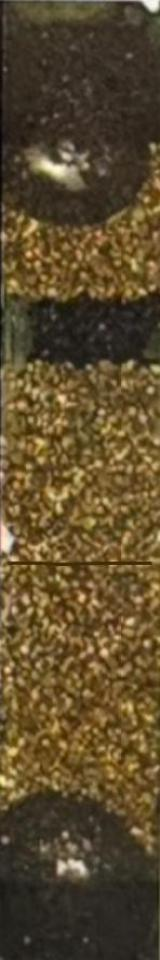blackline: (7, 556, 154, 571)
